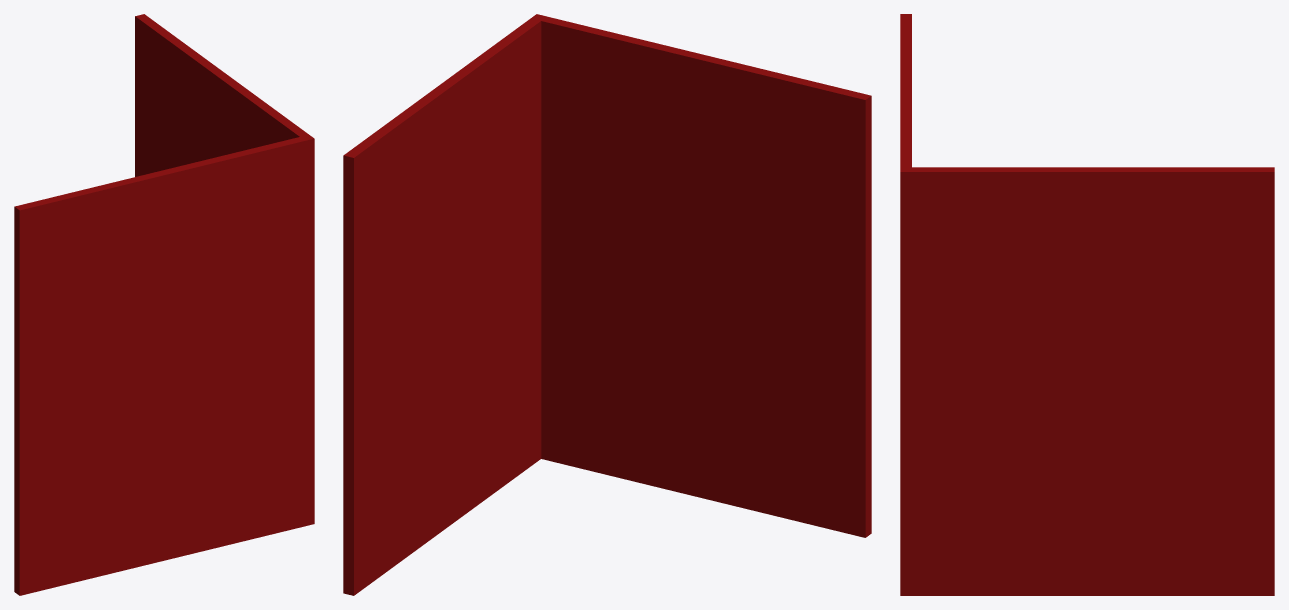
File: 6_SouthEast.dae
The picture shows the model from 3 angles, left to right: view 1: azimuth 30°, elevation 25°; view 2: azimuth 150°, elevation 25°; view 3: azimuth 270°, elevation 25°; orthographic projection. The views are drawn at different scales.
Visible parts, largest first — view 1: SouthEast; view 2: SouthEast; view 3: SouthEast.
Boxes of the visible parts, box(x1,y1,x2,y2) form: SouthEast: box(14, 14, 314, 595); SouthEast: box(343, 14, 871, 595); SouthEast: box(900, 14, 1274, 595).
Size of the model in its own units: 8 by 8 by 10.
